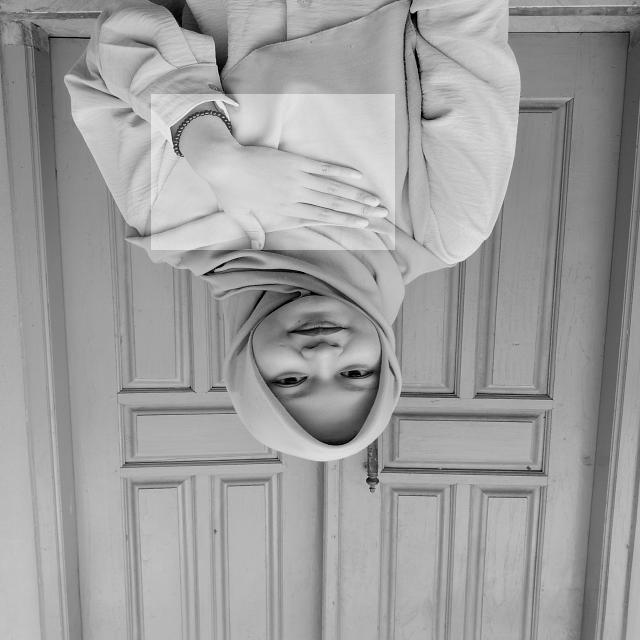tolong: (151, 94, 395, 250)
